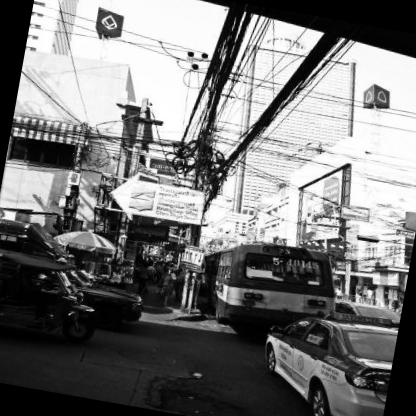car: (244, 302, 399, 416)
